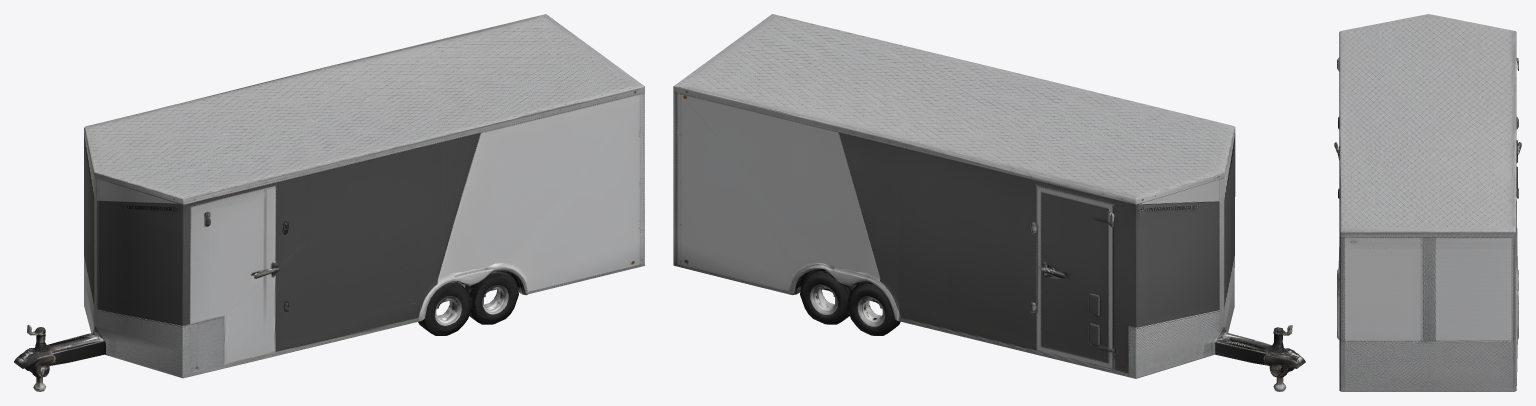
Rendered from Cargo_Trailer22ftlong_0621001532_texture.glb.
3 renders of one model, left to right at view 1: azimuth 30°, elevation 25°; view 2: azimuth 150°, elevation 25°; view 3: azimuth 270°, elevation 25°, orthographic. The views are drawn at different scales.
Parts seen in each view (by area): view 1: Mesh_0; view 2: Mesh_0; view 3: Mesh_0.
Boxes of the visible parts, box(x1,y1,x2,y2) form: Mesh_0: box(14, 14, 644, 391); Mesh_0: box(673, 14, 1305, 391); Mesh_0: box(1334, 14, 1521, 391).
Size of the model in its own units: 8.13 by 2.74 by 2.56.
Materials: 1 (1 with a texture image).
